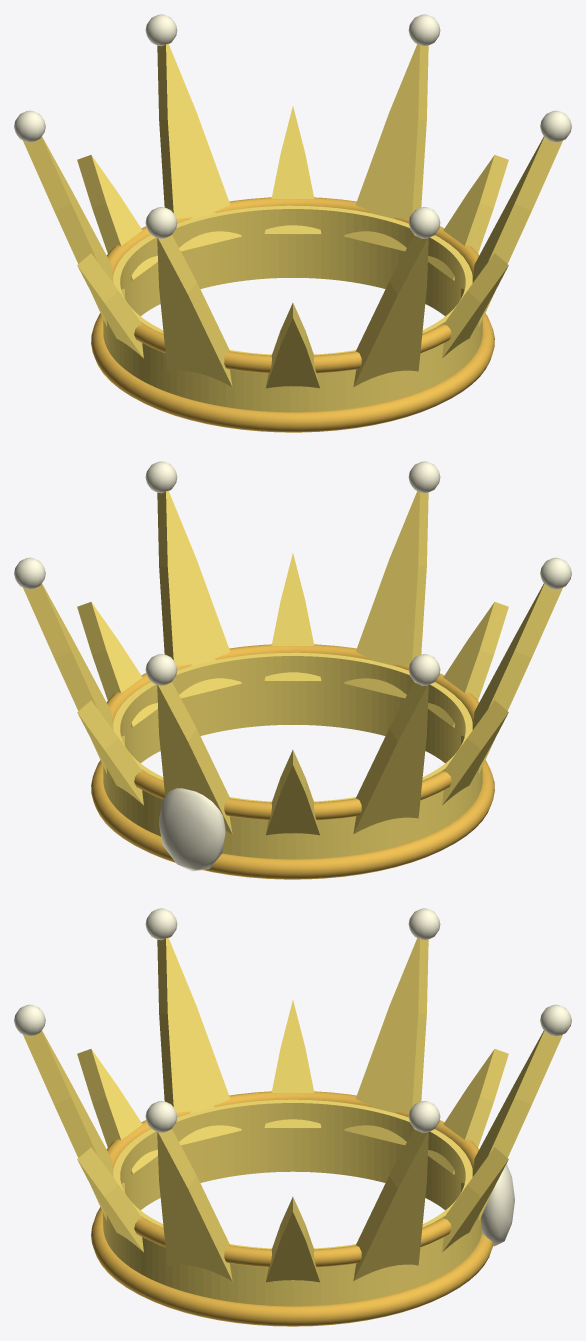
The model's file is SunKingCrown.glb.
3 views of the same model, one above another, from view 1: azimuth 30°, elevation 25°; view 2: azimuth 150°, elevation 25°; view 3: azimuth 270°, elevation 25° (orthographic).
Visible parts, largest first — view 1: SunGold, SunRim, SunGem; view 2: SunGold, SunRim, SunGem; view 3: SunGold, SunRim, SunGem.
Part boxes in pixels (x1=…): SunGold: x1=23, y1=43, x2=562, y2=412; SunRim: x1=91, y1=197, x2=494, y2=432; SunGem: x1=14, y1=14, x2=571, y2=238; SunGold: x1=23, y1=490, x2=562, y2=859; SunRim: x1=91, y1=644, x2=494, y2=879; SunGem: x1=14, y1=461, x2=571, y2=871; SunGold: x1=23, y1=937, x2=562, y2=1306; SunRim: x1=91, y1=1091, x2=493, y2=1326; SunGem: x1=14, y1=908, x2=571, y2=1246.
Size of the model in its own units: 1.31 by 0.6936 by 1.47.
